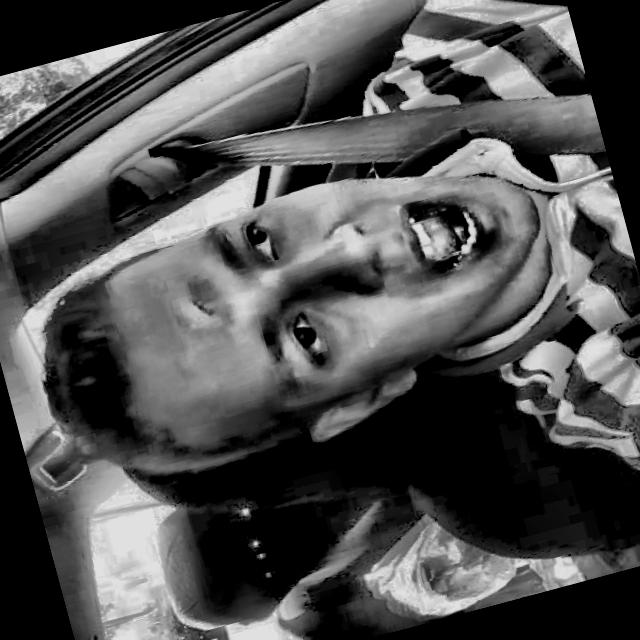open_eyes: (271, 300, 346, 379), (229, 213, 301, 278)
open_mouth: (384, 187, 514, 290)
